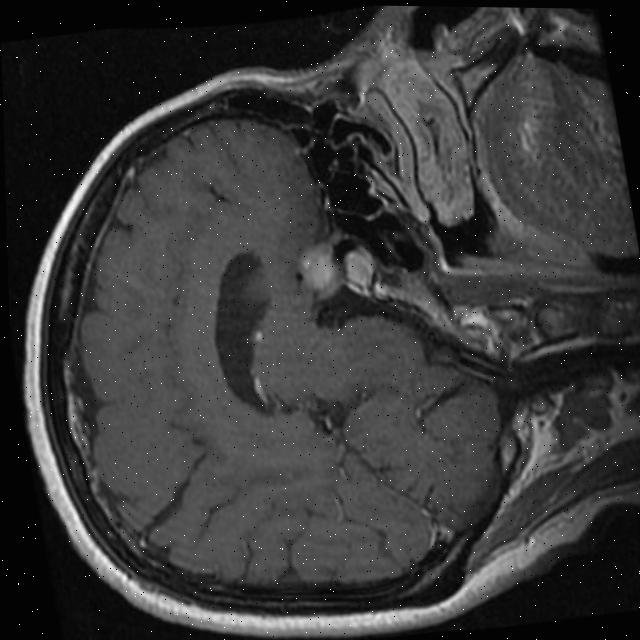Pituitary: (292, 236, 379, 307)
